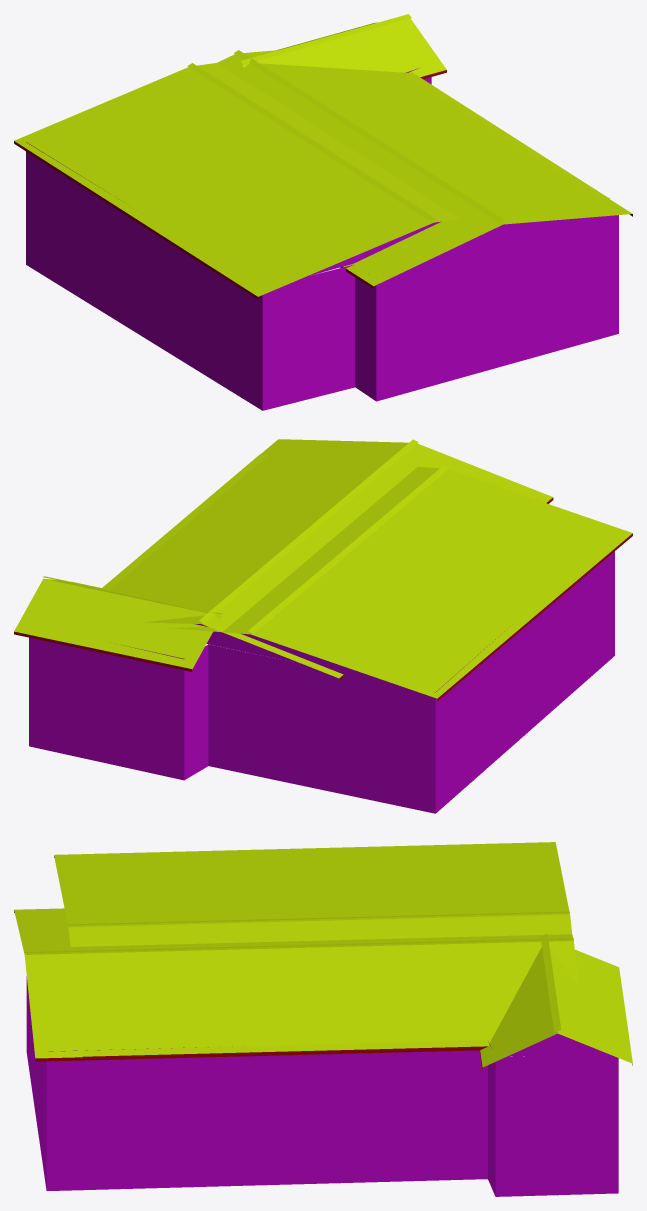
The model's file is ces_75.glb.
3 renders of one model, top to bottom at view 1: azimuth 30°, elevation 25°; view 2: azimuth 150°, elevation 25°; view 3: azimuth 270°, elevation 25°, orthographic. The views are drawn at different scales.
Parts seen in each view (by area): view 1: ces_75; view 2: ces_75; view 3: ces_75.
Boxes of the visible parts, <box> form: ces_75: <box>14,14,632,410</box>; ces_75: <box>14,439,632,813</box>; ces_75: <box>14,842,632,1196</box>.
Bounding box in the file's own units: 17.55 × 6.27 × 20.68.
